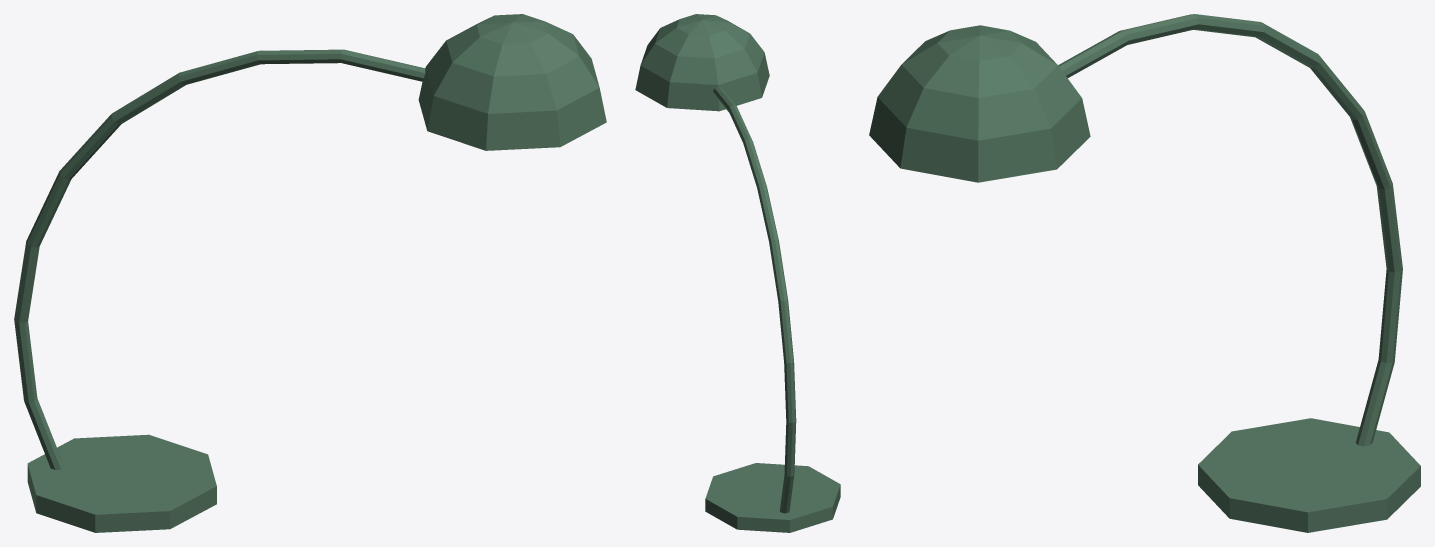
The model's file is Lampe_Grøn.fbx.
3 views of the same model, side by side, from view 1: azimuth 30°, elevation 25°; view 2: azimuth 150°, elevation 25°; view 3: azimuth 270°, elevation 25° (orthographic). The views are drawn at different scales.
Parts seen in each view (by area): view 1: Cylinder.008; view 2: Cylinder.008; view 3: Cylinder.008.
Boxes of the visible parts, left/top/right/bottom form: Cylinder.008: left=14, top=14, right=606, bottom=532; Cylinder.008: left=635, top=14, right=840, bottom=532; Cylinder.008: left=869, top=14, right=1420, bottom=532.
Bounding box in the file's own units: 78.32 × 93.29 × 79.66.
